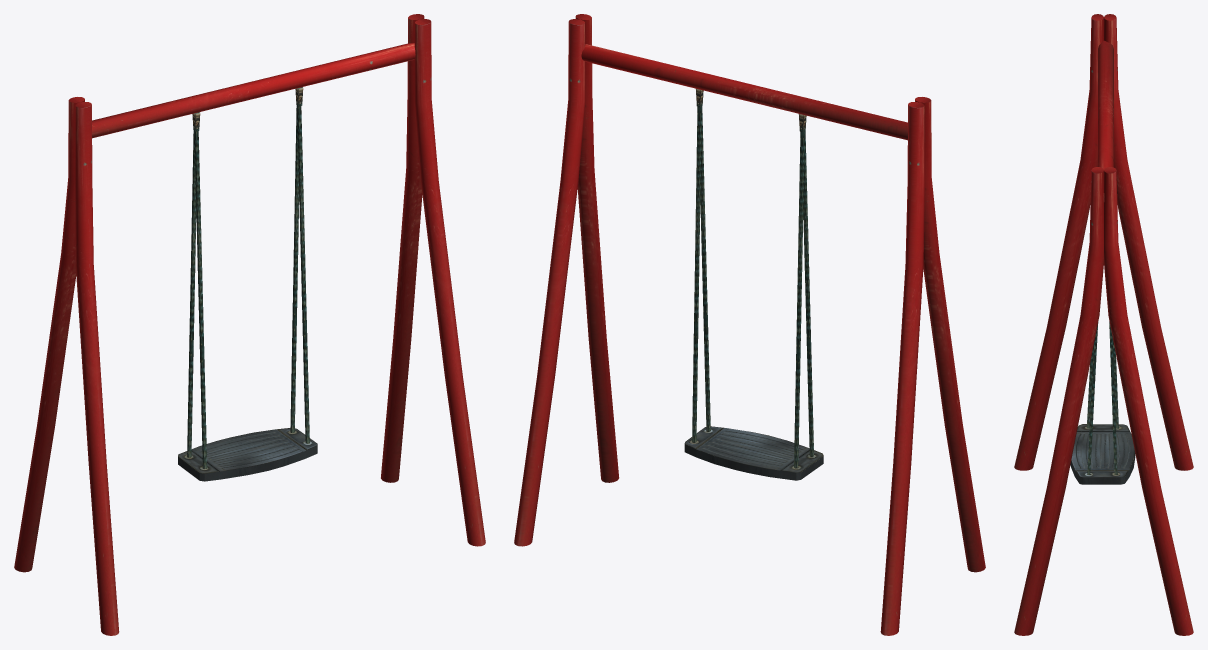
The model's file is swings_1.FBX.
3 renders of one model, left to right at view 1: azimuth 30°, elevation 25°; view 2: azimuth 150°, elevation 25°; view 3: azimuth 270°, elevation 25°, orthographic. The views are drawn at different scales.
Visible parts, largest first — view 1: Cylinder002; view 2: Cylinder002; view 3: Cylinder002.
Boxes of the visible parts, x1=… form: Cylinder002: x1=14, y1=14, x2=485, y2=635; Cylinder002: x1=514, y1=14, x2=985, y2=635; Cylinder002: x1=1014, y1=14, x2=1193, y2=635.
Size of the model in its own units: 99.31 by 123 by 43.85.
